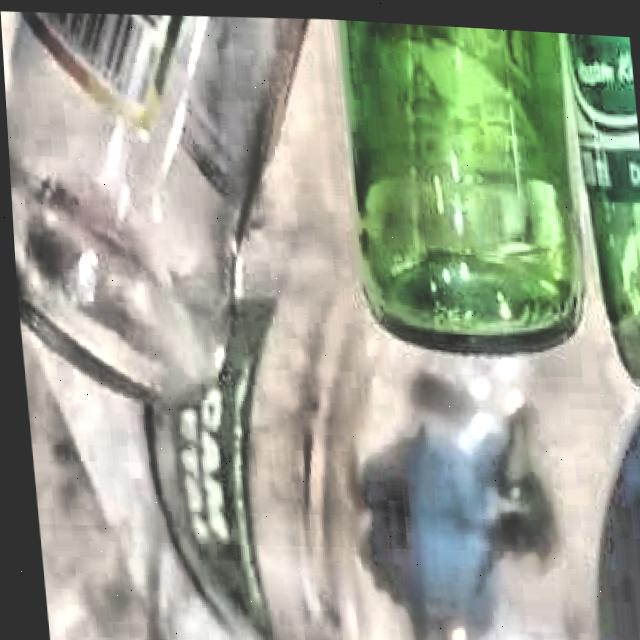glass: (3, 11, 306, 399), (337, 16, 640, 379)
